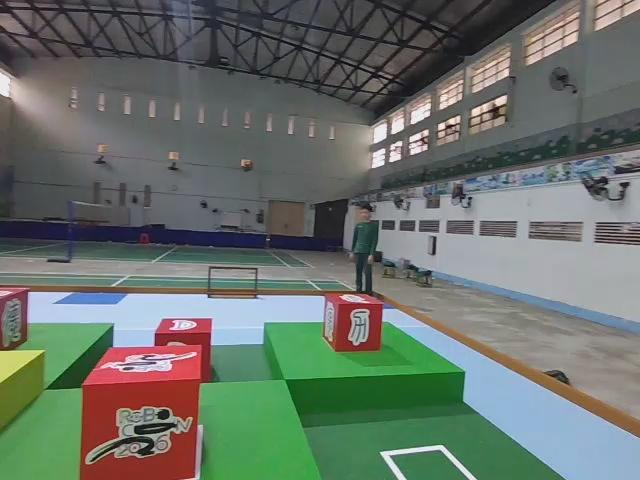R1: (79, 342, 204, 480)
R2 Fake: (322, 289, 386, 354), (0, 283, 30, 354)
